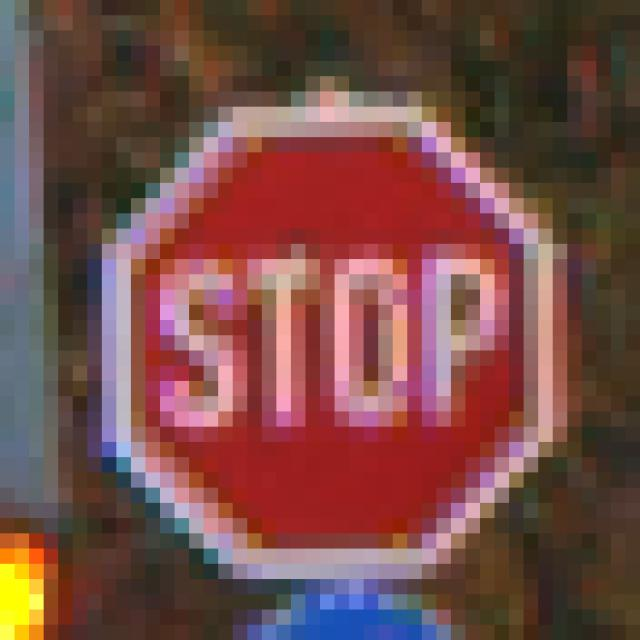STOP: (89, 92, 569, 565)
